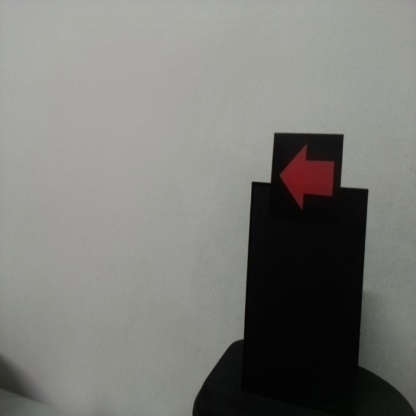id_4: (273, 133, 342, 233)
